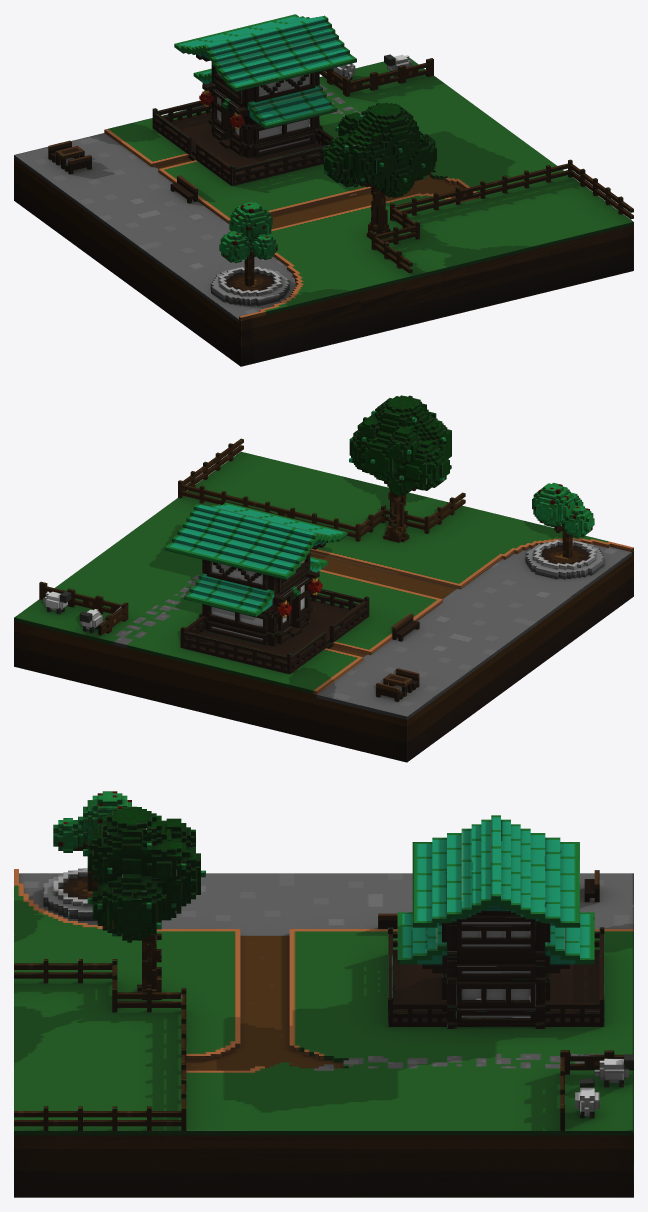
The picture shows the model from 3 angles, top to bottom: view 1: azimuth 30°, elevation 25°; view 2: azimuth 150°, elevation 25°; view 3: azimuth 270°, elevation 25°; orthographic projection. The views are drawn at different scales.
Parts seen in each view (by area): view 1: _D; view 2: _D; view 3: _D.
Boxes of the visible parts, x1,y1,x2,y2 form: _D: [14, 14, 633, 366]; _D: [14, 395, 633, 762]; _D: [14, 791, 633, 1197].
Bounding box in the file's own units: 126 × 126 × 55.
1 material, 1 textured.
